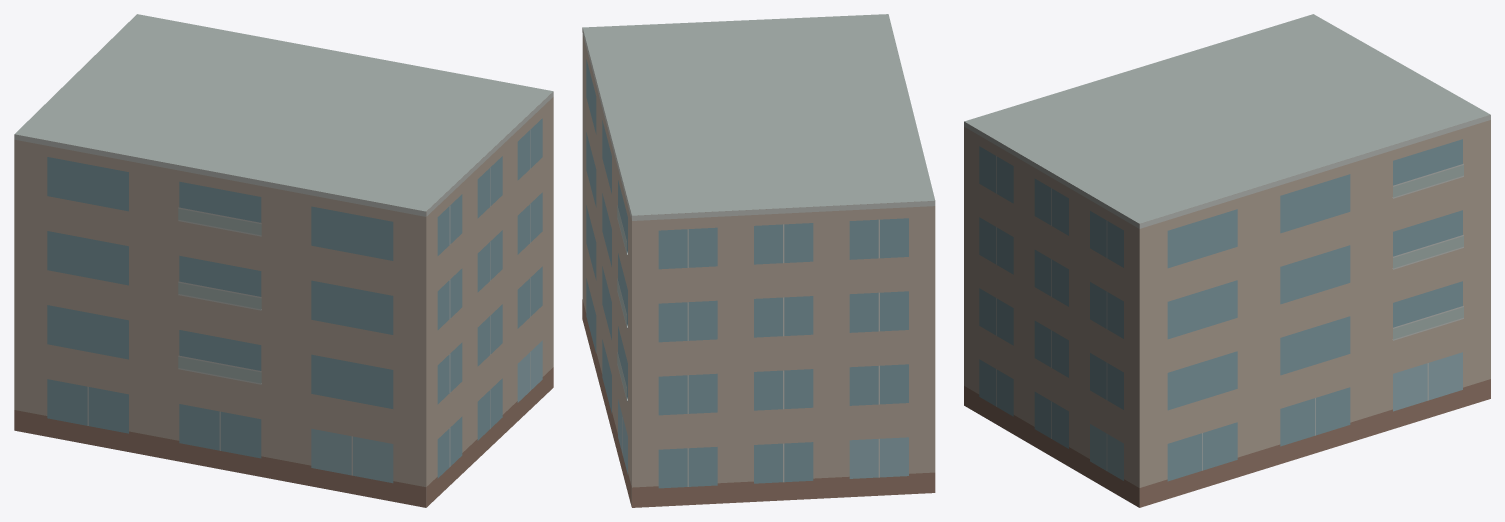
The model's file is survey-upis-33037324.glb.
3 renders of one model, left to right at view 1: azimuth 30°, elevation 25°; view 2: azimuth 150°, elevation 25°; view 3: azimuth 270°, elevation 25°, orthographic. The views are drawn at different scales.
Parts seen in each view (by area): view 1: survey-upis-33037324.tmp; view 2: survey-upis-33037324.tmp; view 3: survey-upis-33037324.tmp.
Part boxes in pixels (<box>): survey-upis-33037324.tmp: <box>14,14,553,507</box>; survey-upis-33037324.tmp: <box>582,14,935,507</box>; survey-upis-33037324.tmp: <box>964,14,1490,507</box>.
Bounding box in the file's own units: 21.23 × 13.4 × 22.53.
